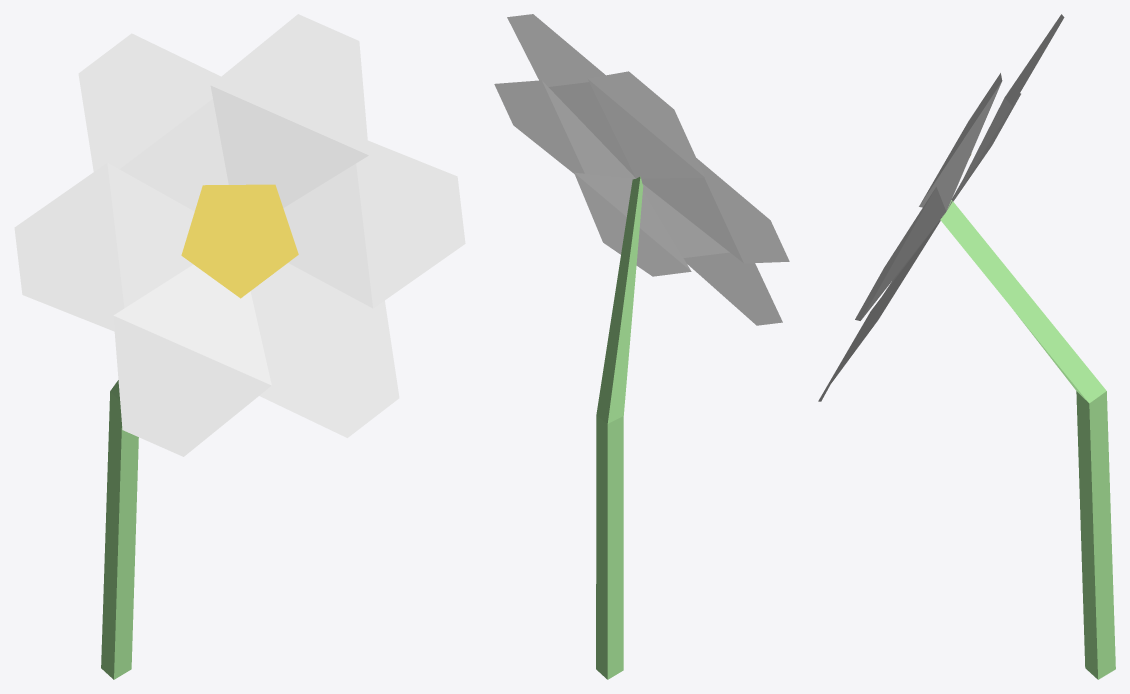
The model's file is Flower_e_OneS_05.fbx.
3 renders of one model, left to right at view 1: azimuth 30°, elevation 25°; view 2: azimuth 150°, elevation 25°; view 3: azimuth 270°, elevation 25°, orthographic. The views are drawn at different scales.
Visible parts, largest first — view 1: Flower_e_OneS_05; view 2: Flower_e_OneS_05; view 3: Flower_e_OneS_05.
Boxes of the visible parts, <box> form: Flower_e_OneS_05: <box>14,14,465,679</box>; Flower_e_OneS_05: <box>494,14,789,679</box>; Flower_e_OneS_05: <box>818,14,1115,679</box>.
Bounding box in the file's own units: 19.92 × 33.03 × 13.4.
